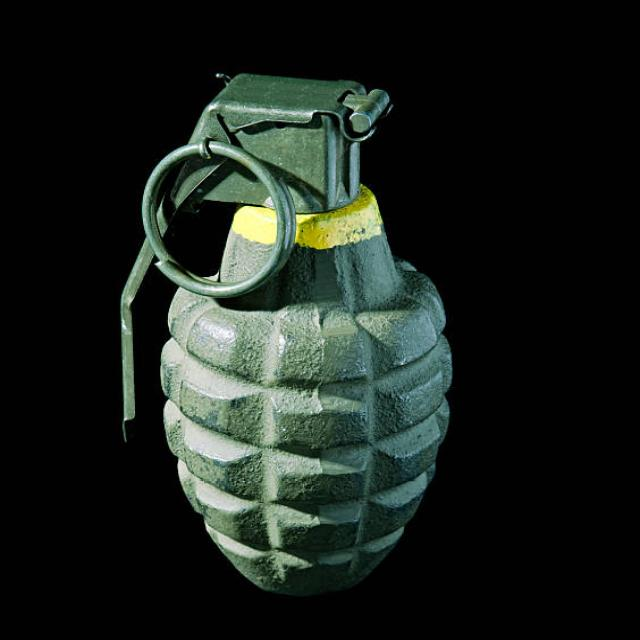grenade: (107, 64, 469, 607)
